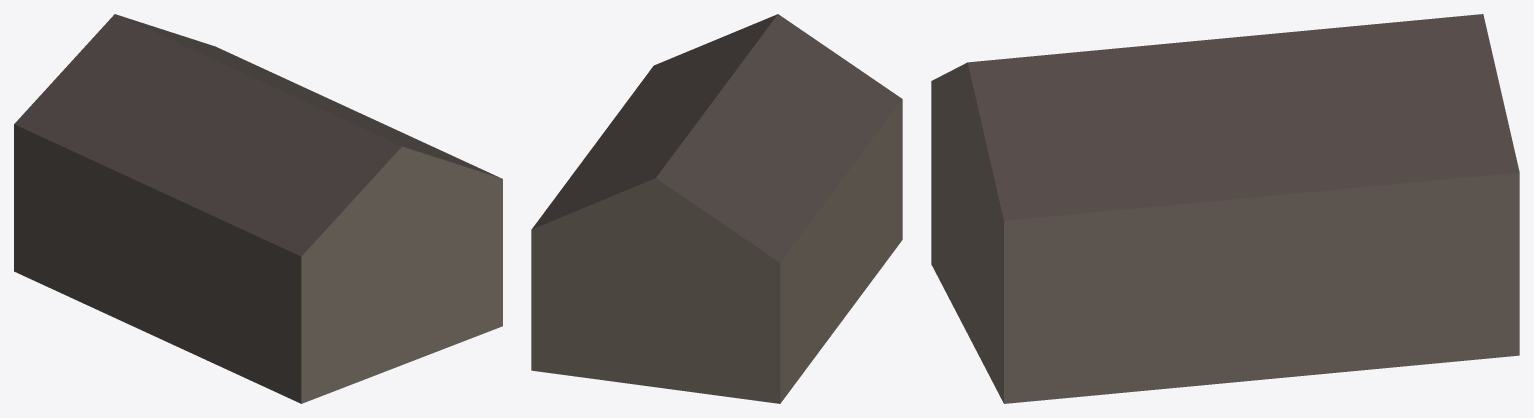
3 views of the same model, side by side, from view 1: azimuth 30°, elevation 25°; view 2: azimuth 150°, elevation 25°; view 3: azimuth 270°, elevation 25° (orthographic). The views are drawn at different scales.
Visible parts, largest first — view 1: HP-w859424262; view 2: HP-w859424262; view 3: HP-w859424262.
Part boxes in pixels (left/top/right/bottom): HP-w859424262: left=14, top=14, right=502, bottom=403; HP-w859424262: left=531, top=14, right=902, bottom=403; HP-w859424262: left=931, top=14, right=1519, bottom=403.
Size of the model in its own units: 13.24 by 8.91 by 17.48.
